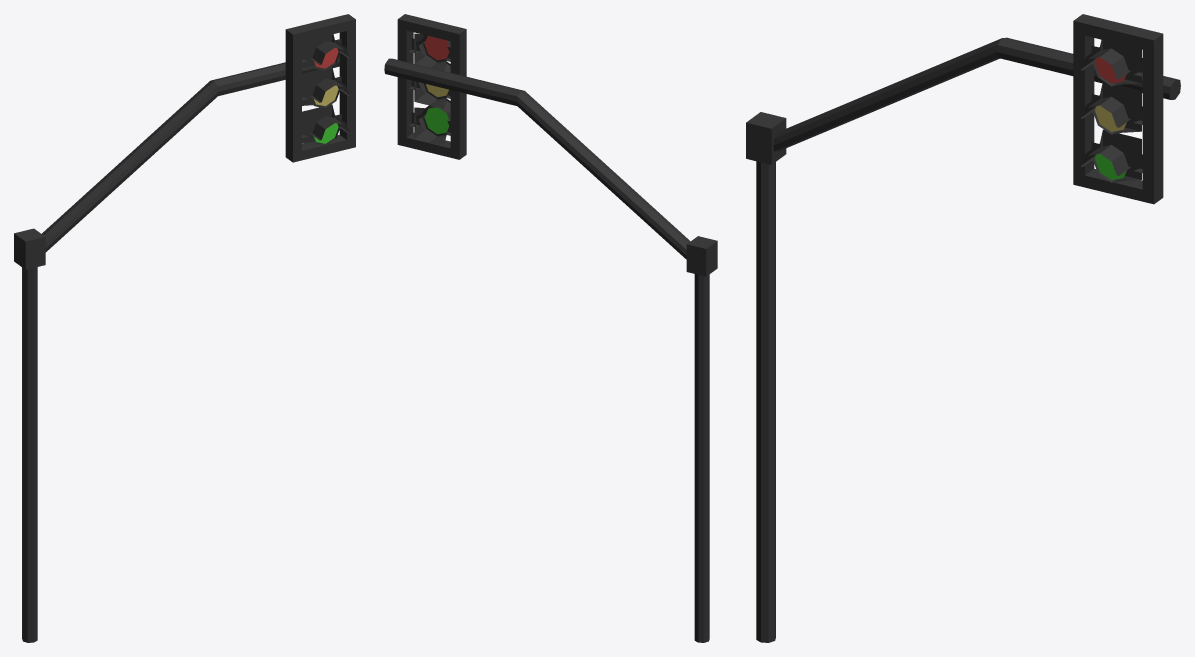
Rendered from InvertedTrafficLight.fbx.
3 views of the same model, side by side, from view 1: azimuth 30°, elevation 25°; view 2: azimuth 150°, elevation 25°; view 3: azimuth 330°, elevation 25° (orthographic). The views are drawn at different scales.
Visible parts, largest first — view 1: TrafficLight; view 2: TrafficLight; view 3: TrafficLight.
Part boxes in pixels (x1,y1,x2,y2): TrafficLight: (14, 14, 355, 642); TrafficLight: (384, 14, 717, 642); TrafficLight: (746, 14, 1180, 642).
Size of the model in its own units: 366 by 587 by 54.15.
